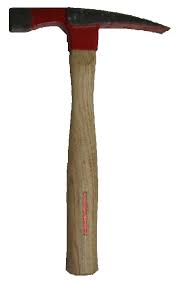hammer: (6, 6, 171, 276)
